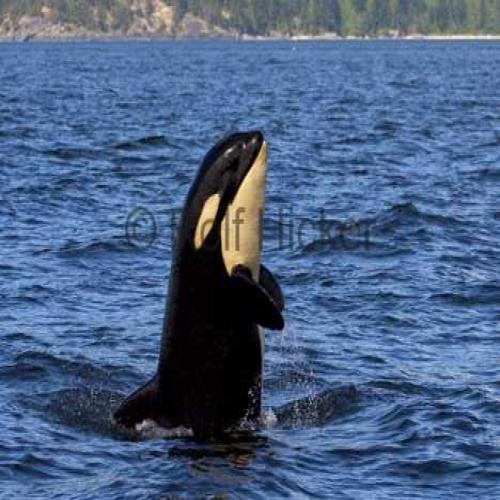killer_whale-endangered: (144, 97, 300, 461)
